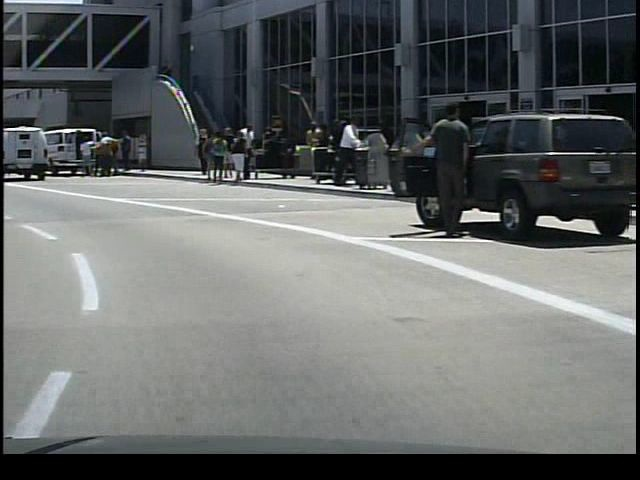person: (406, 81, 475, 241), (326, 109, 360, 195), (232, 122, 257, 182), (225, 129, 247, 180), (189, 125, 210, 176), (113, 129, 135, 176), (94, 131, 114, 181), (77, 136, 95, 181)
